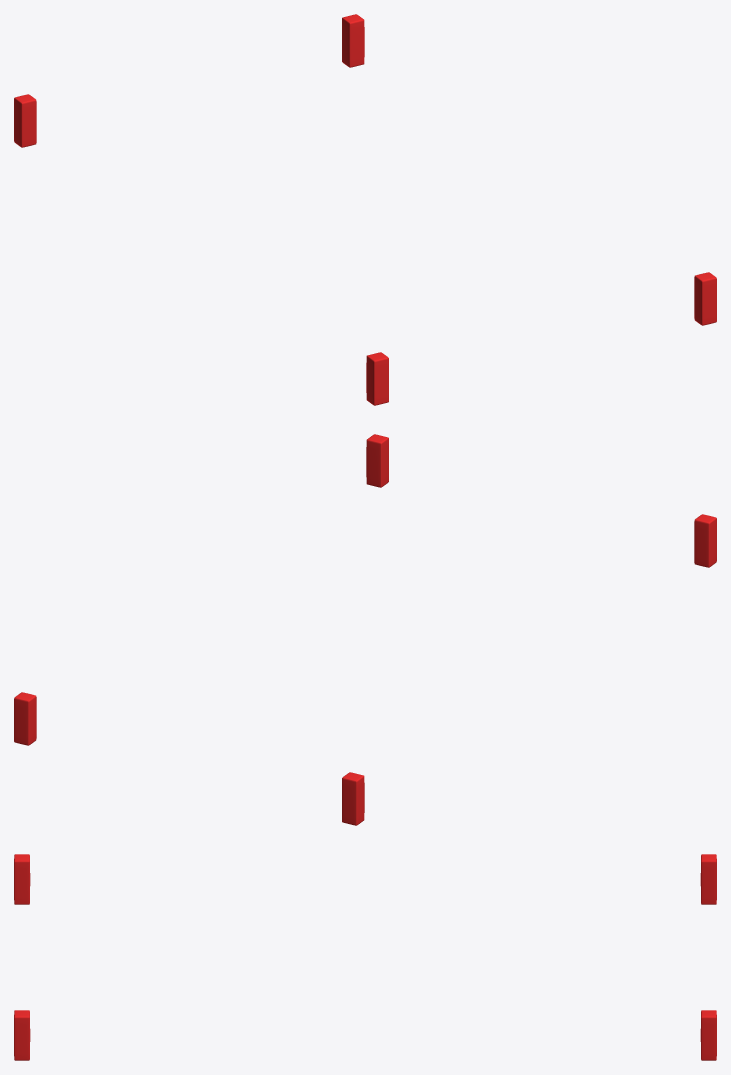
Rendered from brake_calipers.glb.
The picture shows the model from 3 angles, top to bottom: view 1: azimuth 30°, elevation 25°; view 2: azimuth 150°, elevation 25°; view 3: azimuth 270°, elevation 25°; orthographic projection. The views are drawn at different scales.
Parts seen in each view (by area): view 1: GEO_Brake_Calipers; view 2: GEO_Brake_Calipers; view 3: GEO_Brake_Calipers.
Boxes of the visible parts, x1=… form: GEO_Brake_Calipers: x1=14, y1=14, x2=716, y2=405; GEO_Brake_Calipers: x1=14, y1=434, x2=716, y2=825; GEO_Brake_Calipers: x1=14, y1=854, x2=716, y2=1060.
Size of the model in its own units: 1.66 by 0.2098 by 3.03.
